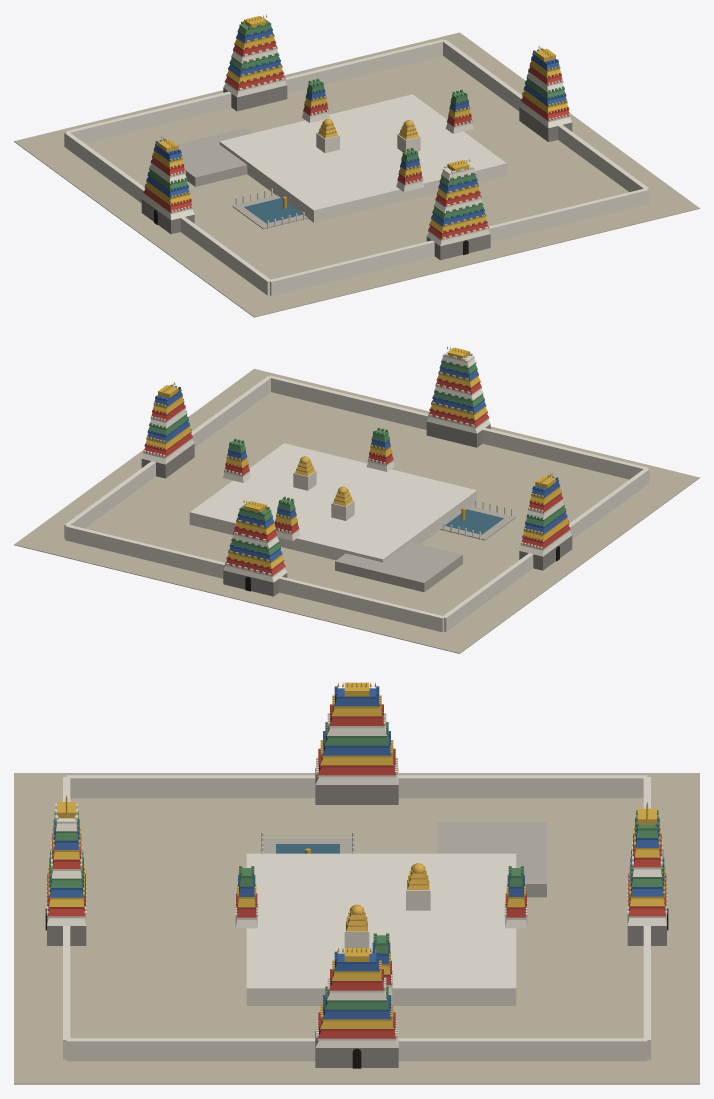
The model's file is meenakshi-amman-temple.glb.
3 renders of one model, top to bottom at view 1: azimuth 30°, elevation 25°; view 2: azimuth 150°, elevation 25°; view 3: azimuth 270°, elevation 25°, orthographic. The views are drawn at different scales.
Parts seen in each view (by area): view 1: ground, poly_w, poly_y, poly_r, granite_l, poly_b, granite, poly_g, water, gold; view 2: ground, poly_w, granite_l, poly_y, poly_r, poly_b, granite, poly_g, water, gold; view 3: ground, poly_w, poly_y, poly_r, granite_l, poly_b, granite, poly_g, gold.
Part boxes in pixels (bbox=[...]): ground: bbox=[14, 32, 699, 317]; poly_w: bbox=[64, 39, 649, 295]; poly_y: bbox=[145, 16, 568, 232]; poly_r: bbox=[143, 40, 570, 239]; granite_l: bbox=[177, 127, 307, 229]; poly_b: bbox=[146, 28, 567, 226]; granite: bbox=[141, 85, 572, 260]; poly_g: bbox=[148, 17, 565, 219]; water: bbox=[244, 198, 302, 223]; gold: bbox=[161, 14, 552, 208]; ground: bbox=[14, 368, 699, 653]; poly_w: bbox=[64, 348, 649, 632]; granite_l: bbox=[335, 506, 515, 592]; poly_y: bbox=[145, 347, 568, 568]; poly_r: bbox=[143, 378, 570, 575]; poly_b: bbox=[147, 366, 567, 562]; granite: bbox=[141, 421, 572, 596]; poly_g: bbox=[147, 360, 565, 555]; water: bbox=[445, 509, 503, 534]; gold: bbox=[161, 346, 552, 519]; ground: bbox=[14, 773, 699, 1084]; poly_w: bbox=[46, 713, 667, 1061]; poly_y: bbox=[48, 682, 665, 1028]; poly_r: bbox=[47, 704, 666, 1038]; granite_l: bbox=[264, 822, 546, 897]; poly_b: bbox=[49, 686, 664, 1019]; granite: bbox=[47, 785, 666, 1067]; poly_g: bbox=[50, 722, 663, 1009]; gold: bbox=[65, 682, 648, 952].
Bounding box in the file's own units: 300 × 56.9 × 280.
